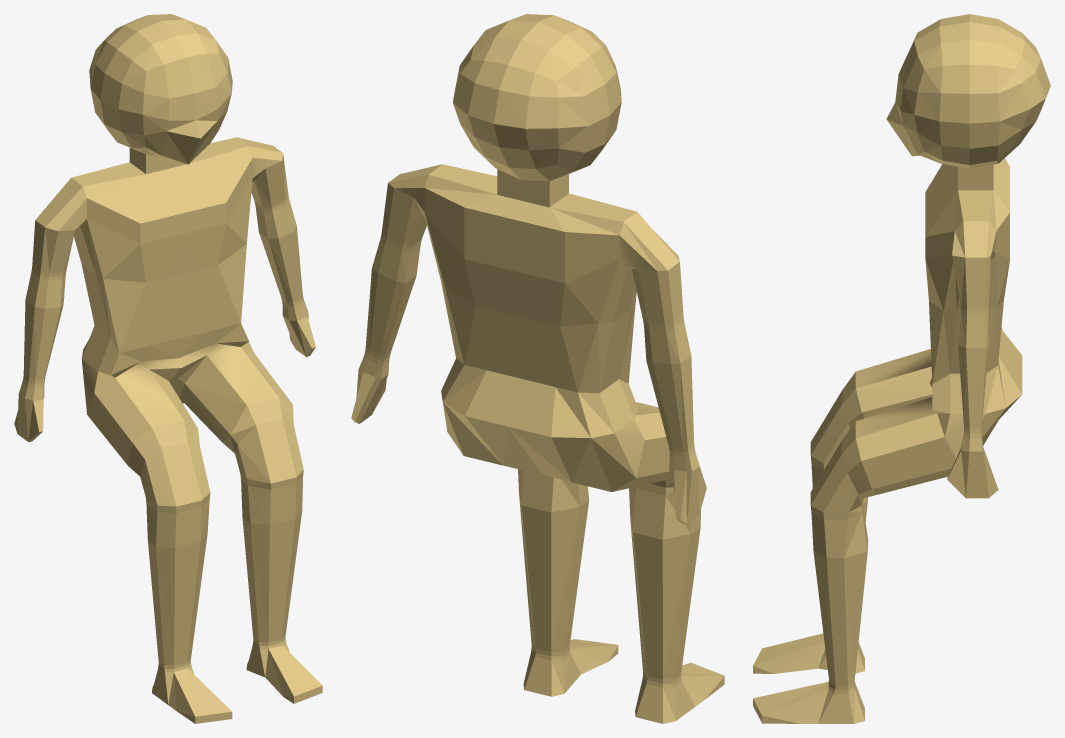
Rendered from judges.obj.
3 views of the same model, side by side, from view 1: azimuth 30°, elevation 25°; view 2: azimuth 150°, elevation 25°; view 3: azimuth 270°, elevation 25° (orthographic). The views are drawn at different scales.
Visible parts, largest first — view 1: 立方体; view 2: 立方体; view 3: 立方体.
Boxes of the visible parts, x1=… form: 立方体: x1=14, y1=14, x2=322, y2=723; 立方体: x1=351, y1=14, x2=724, y2=723; 立方体: x1=753, y1=14, x2=1050, y2=723.
Bounding box in the file's own units: 3.89 × 8.08 × 3.27.
2 materials, 2 textured.
